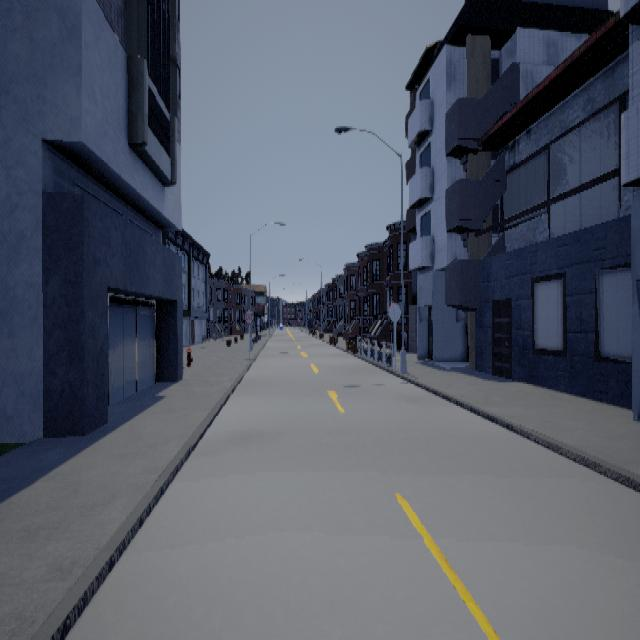traffic_sign: (245, 308, 255, 324)
